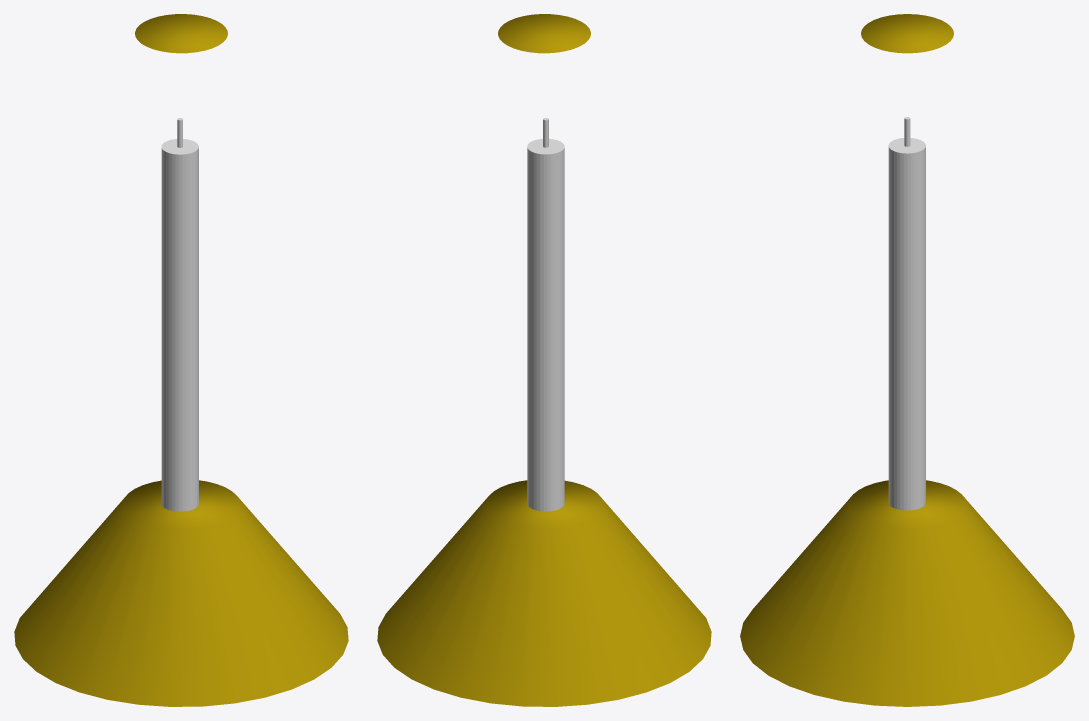
File: Candle_LastSupper.glb
3 views of the same model, side by side, from view 1: azimuth 30°, elevation 25°; view 2: azimuth 150°, elevation 25°; view 3: azimuth 270°, elevation 25° (orthographic).
Parts seen in each view (by area): view 1: Cylinder, Cylinder.001; view 2: Cylinder, Cylinder.001; view 3: Cylinder, Cylinder.001.
Part boxes in pixels (<box>): Cylinder: <box>14,14,348,706</box>; Cylinder.001: <box>161,118,198,511</box>; Cylinder: <box>377,14,711,706</box>; Cylinder.001: <box>527,118,564,511</box>; Cylinder: <box>740,14,1074,706</box>; Cylinder.001: <box>888,117,925,510</box>.
Size of what is drawn, in the model's own units: 0.1711 by 0.3397 by 0.1711.
